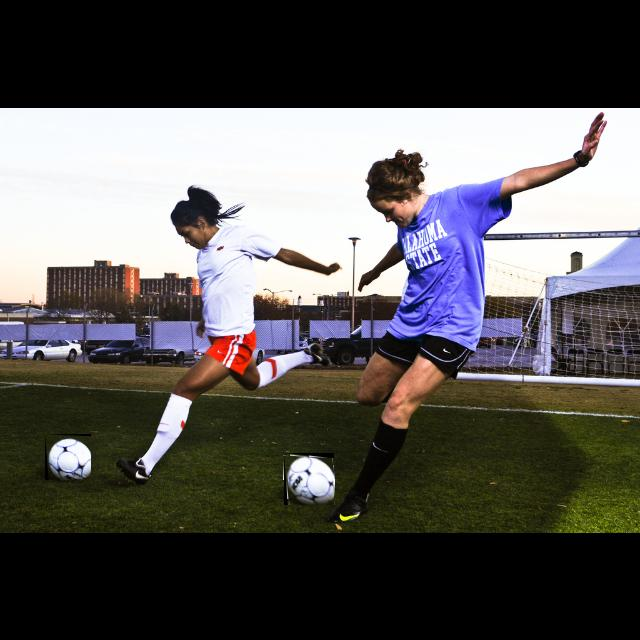Football: (284, 453, 334, 505), (45, 434, 91, 480)
